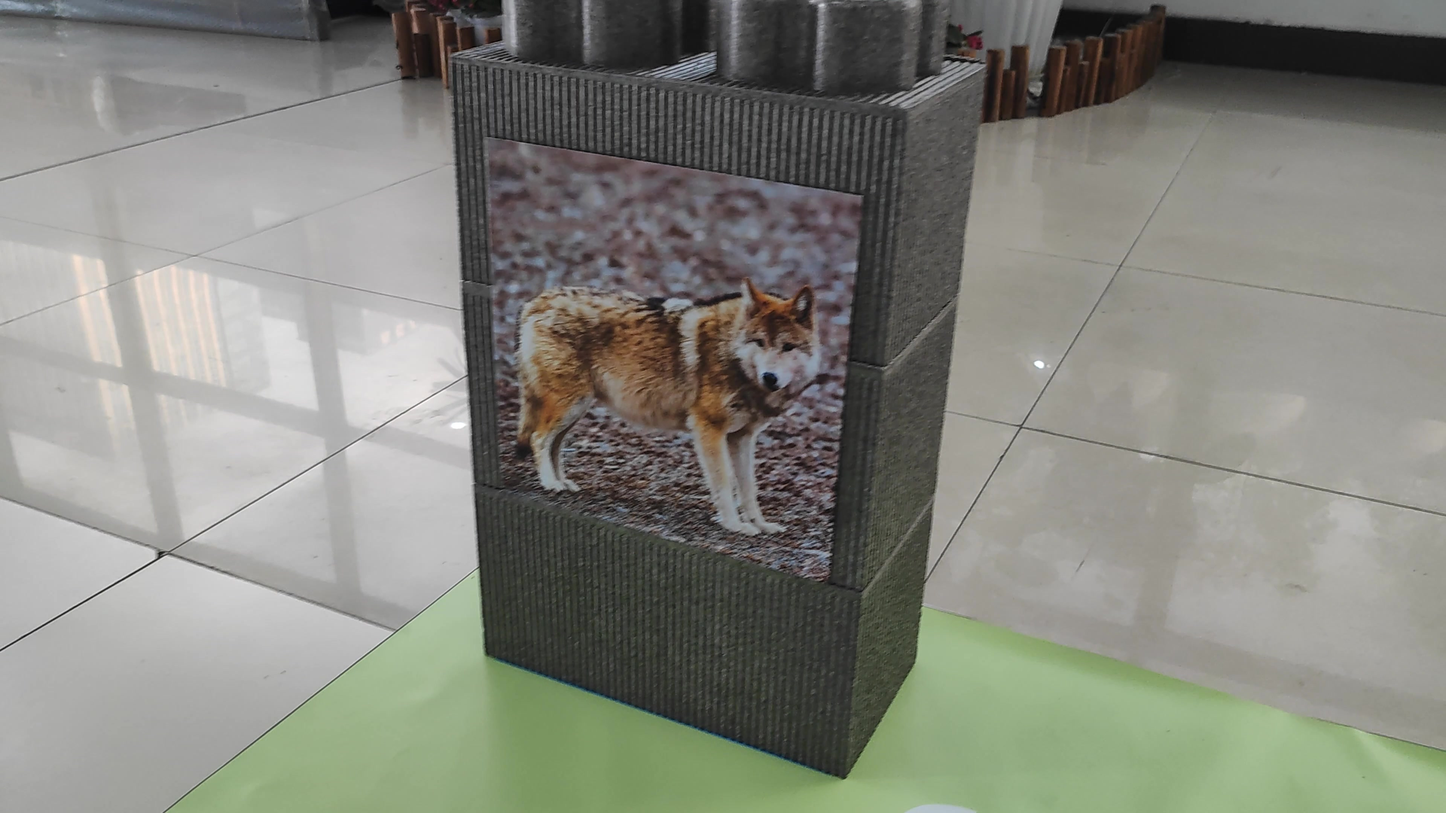wolf: (507, 262, 828, 540)
